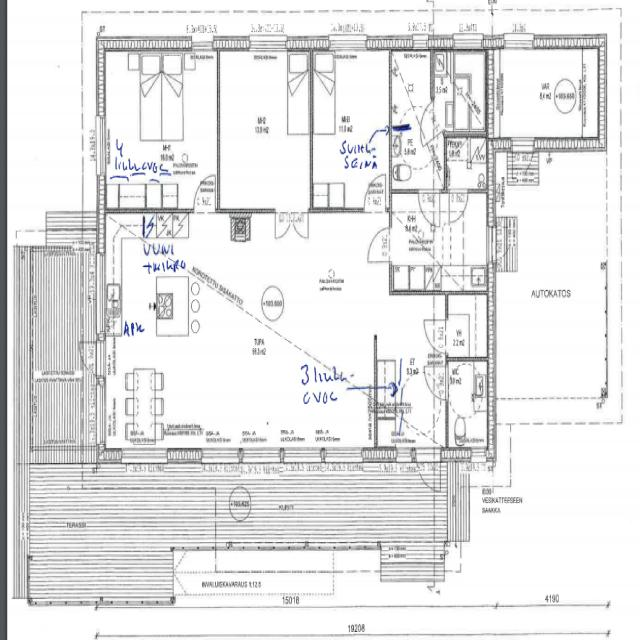door: (412, 98, 444, 147), (416, 448, 441, 506), (74, 340, 105, 378), (486, 226, 518, 262), (511, 136, 534, 186), (423, 319, 448, 353), (418, 190, 440, 228), (368, 228, 392, 262), (193, 175, 214, 213), (424, 368, 448, 399), (365, 176, 385, 213), (450, 190, 468, 223), (275, 208, 292, 238), (292, 208, 308, 238)
